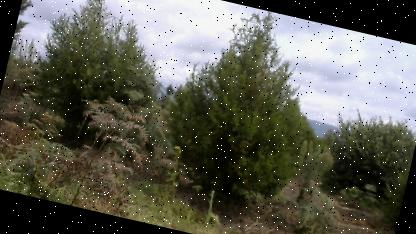tree: (142, 0, 346, 226)
